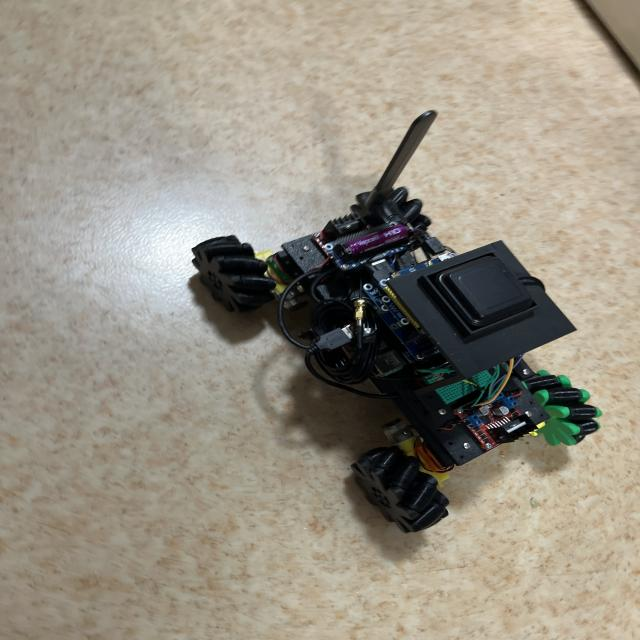robot: (192, 111, 601, 533)
